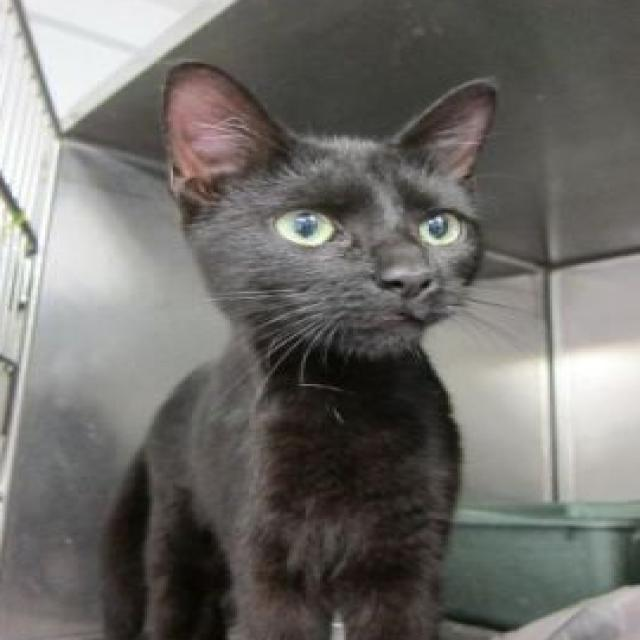Bombay: (97, 57, 505, 640)
